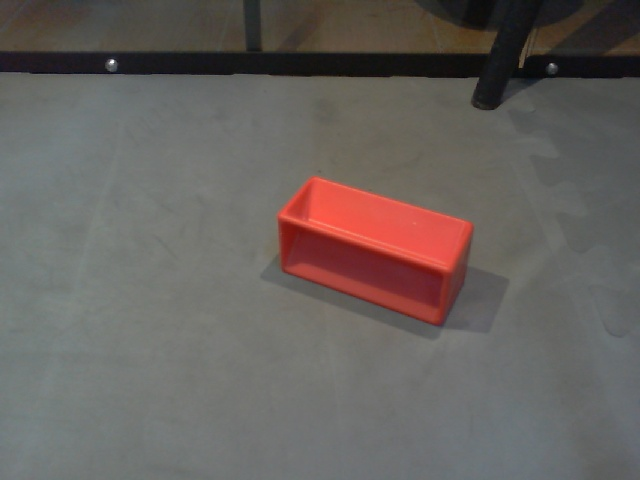RedSample: (273, 174, 476, 330)
